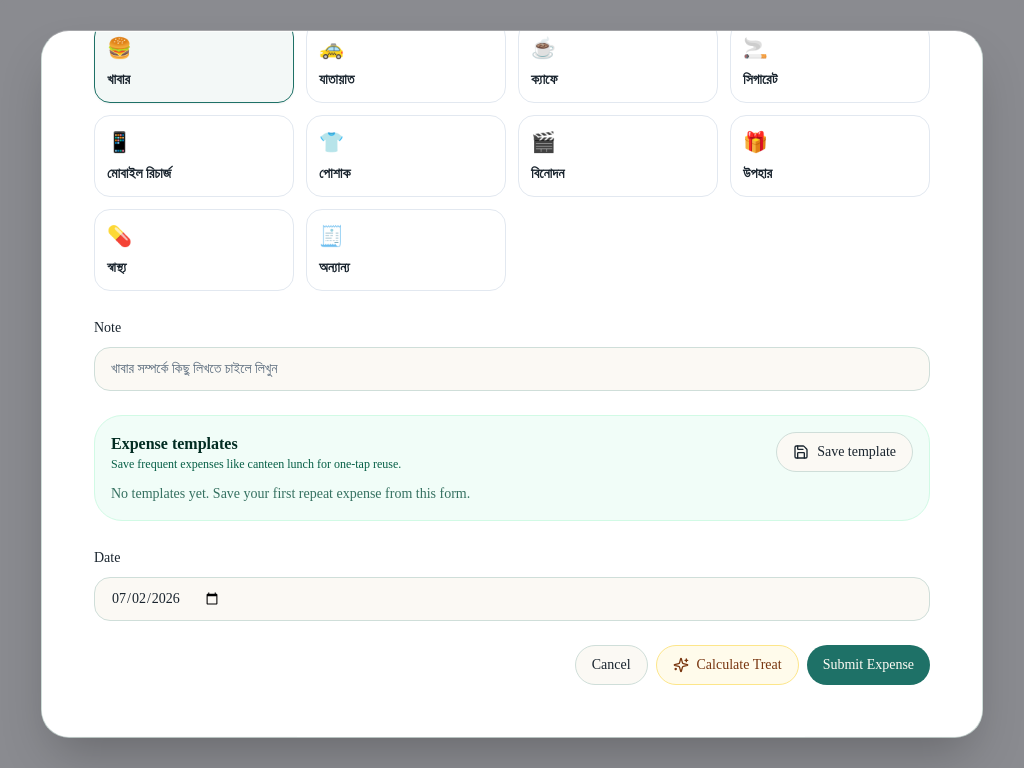
Scenario: AddExpenseModal › validates required amount input
(page scrolled)
Click the button "Submit Expense": (868, 665) [807,645,930,685]
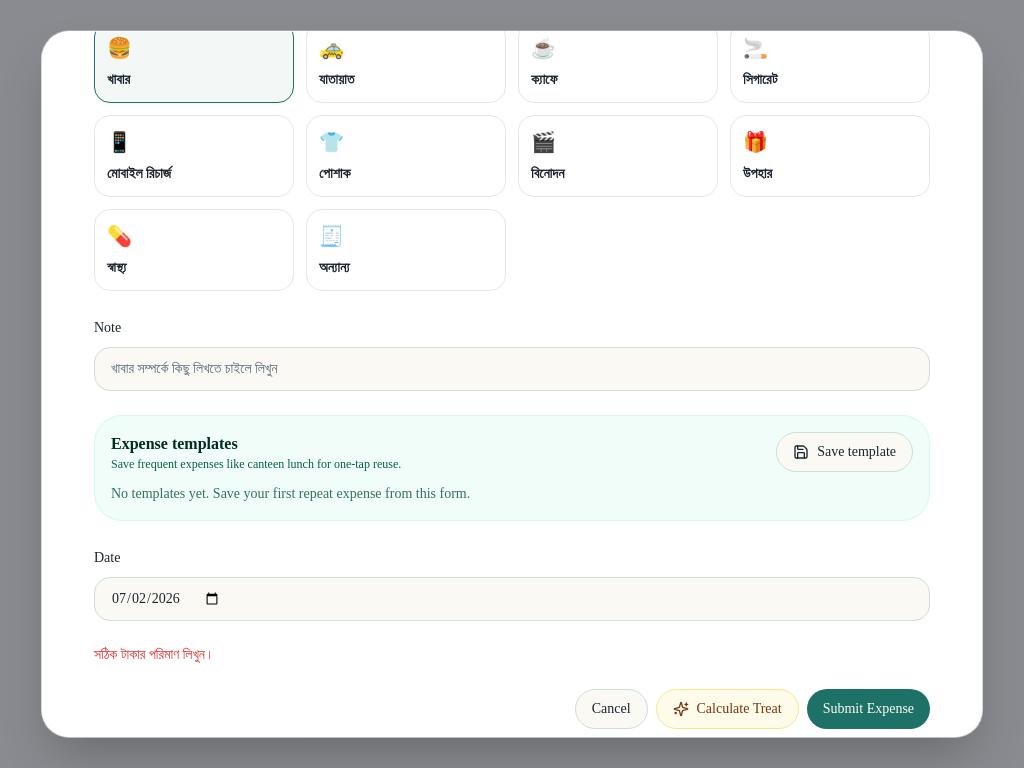
Expected: the text "সঠিক টাকার পরিমাণ লিখুন।" is shown, [94,647,214,662]
